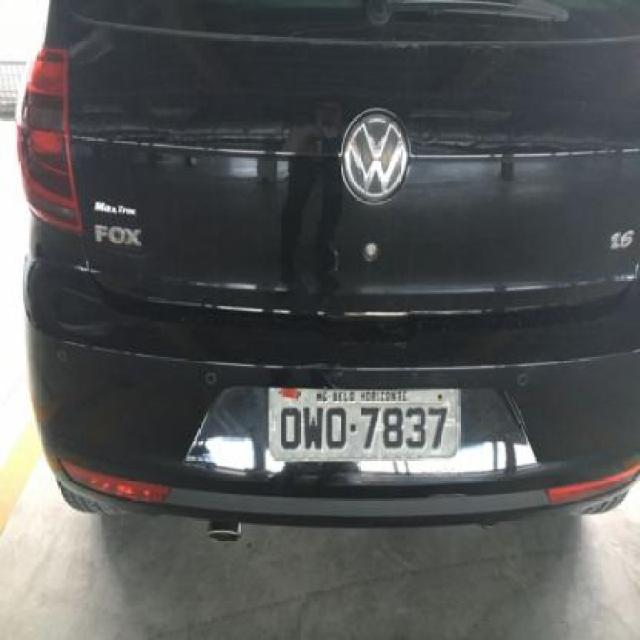old_plate: (263, 380, 464, 465)
